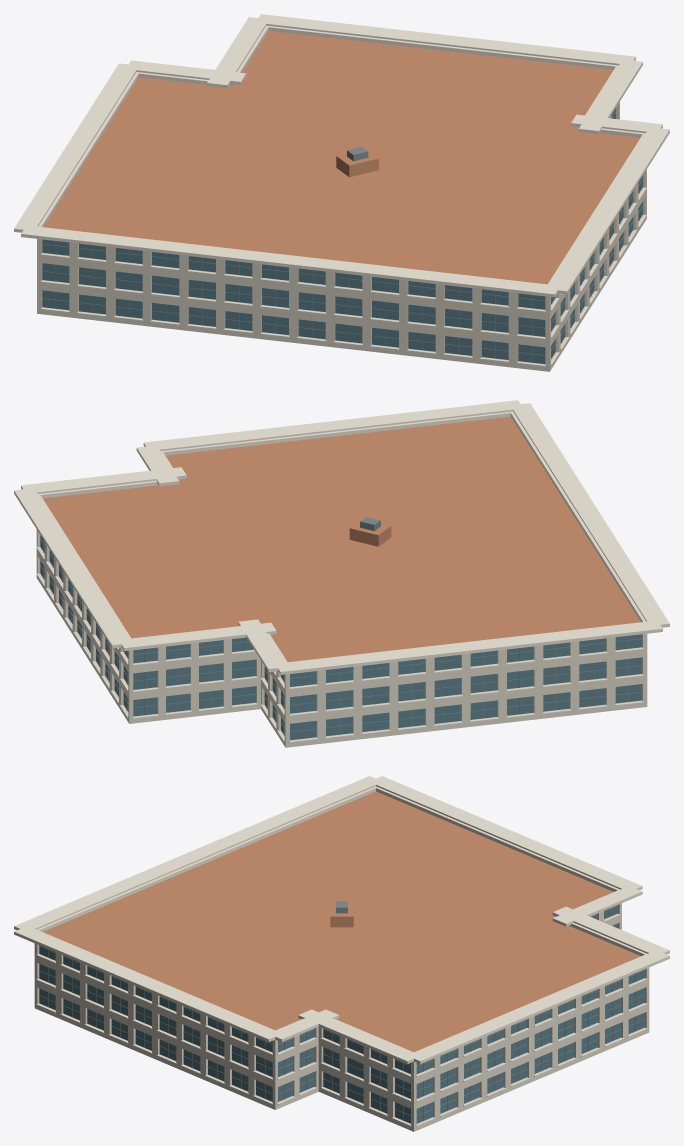
Rendered from canteen3.glb.
3 renders of one model, top to bottom at view 1: azimuth 30°, elevation 25°; view 2: azimuth 150°, elevation 25°; view 3: azimuth 270°, elevation 25°, orthographic. The views are drawn at different scales.
Parts seen in each view (by area): view 1: roof, trim, wall, glass, metal; view 2: roof, trim, wall, glass, metal; view 3: roof, trim, wall, glass, metal.
Boxes of the visible parts, bbox=[...] form: roof: bbox=[44, 31, 640, 284]; trim: bbox=[14, 14, 669, 366]; wall: bbox=[37, 102, 646, 371]; glass: bbox=[42, 108, 642, 364]; metal: bbox=[42, 110, 643, 362]; roof: bbox=[43, 416, 640, 662]; trim: bbox=[14, 400, 669, 742]; wall: bbox=[36, 529, 647, 747]; glass: bbox=[40, 535, 642, 740]; metal: bbox=[40, 517, 642, 738]; roof: bbox=[43, 791, 640, 1051]; trim: bbox=[14, 776, 669, 1126]; wall: bbox=[34, 903, 649, 1131]; glass: bbox=[39, 905, 644, 1123]; metal: bbox=[39, 901, 644, 1120].
Bounding box in the file's own units: 74.21 × 11.35 × 72.11.
